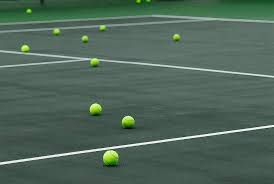tennis_ball: (102, 150, 118, 166), (121, 114, 135, 130), (88, 102, 102, 117), (90, 57, 100, 68), (52, 26, 62, 37), (20, 43, 30, 54), (172, 33, 181, 42), (81, 35, 89, 43), (99, 24, 106, 32), (26, 8, 31, 14), (136, 1, 141, 4)
